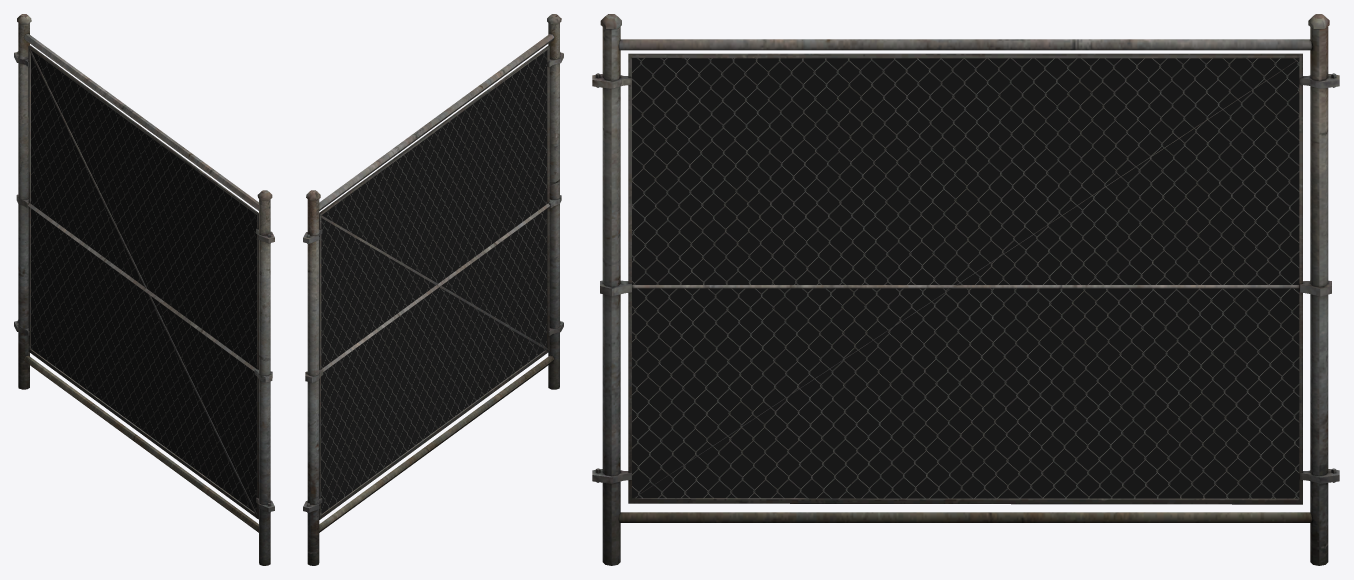
The model's file is fence2.glb.
3 renders of one model, left to right at view 1: azimuth 30°, elevation 25°; view 2: azimuth 150°, elevation 25°; view 3: azimuth 270°, elevation 25°, orthographic. The views are drawn at different scales.
Visible parts, largest first — view 1: Body_fence01a_reference_smd_mesh_1, Body_fence01a_reference_smd_mesh_0; view 2: Body_fence01a_reference_smd_mesh_1, Body_fence01a_reference_smd_mesh_0; view 3: Body_fence01a_reference_smd_mesh_1, Body_fence01a_reference_smd_mesh_0.
Boxes of the visible parts, x1=… form: Body_fence01a_reference_smd_mesh_1: x1=31, y1=50, x2=256, y2=513; Body_fence01a_reference_smd_mesh_0: x1=14, y1=14, x2=274, y2=565; Body_fence01a_reference_smd_mesh_1: x1=321, y1=50, x2=546, y2=514; Body_fence01a_reference_smd_mesh_0: x1=303, y1=14, x2=563, y2=565; Body_fence01a_reference_smd_mesh_1: x1=632, y1=58, x2=1299, y2=498; Body_fence01a_reference_smd_mesh_0: x1=592, y1=14, x2=1339, y2=565.
Size of the model in its own units: 0.887 by 21.74 by 26.9.
2 materials, 2 textured.
